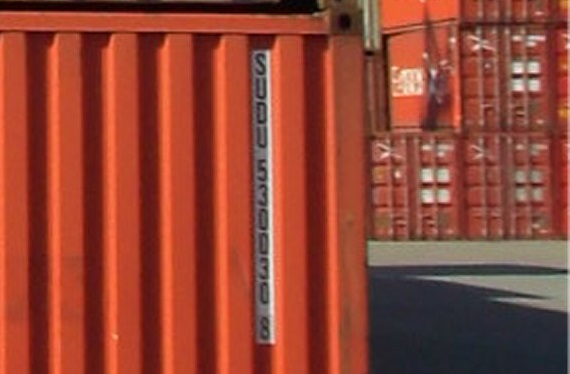container_door: (464, 129, 556, 244), (457, 22, 554, 130), (376, 131, 463, 243)
container_no_door: (1, 10, 373, 374)
